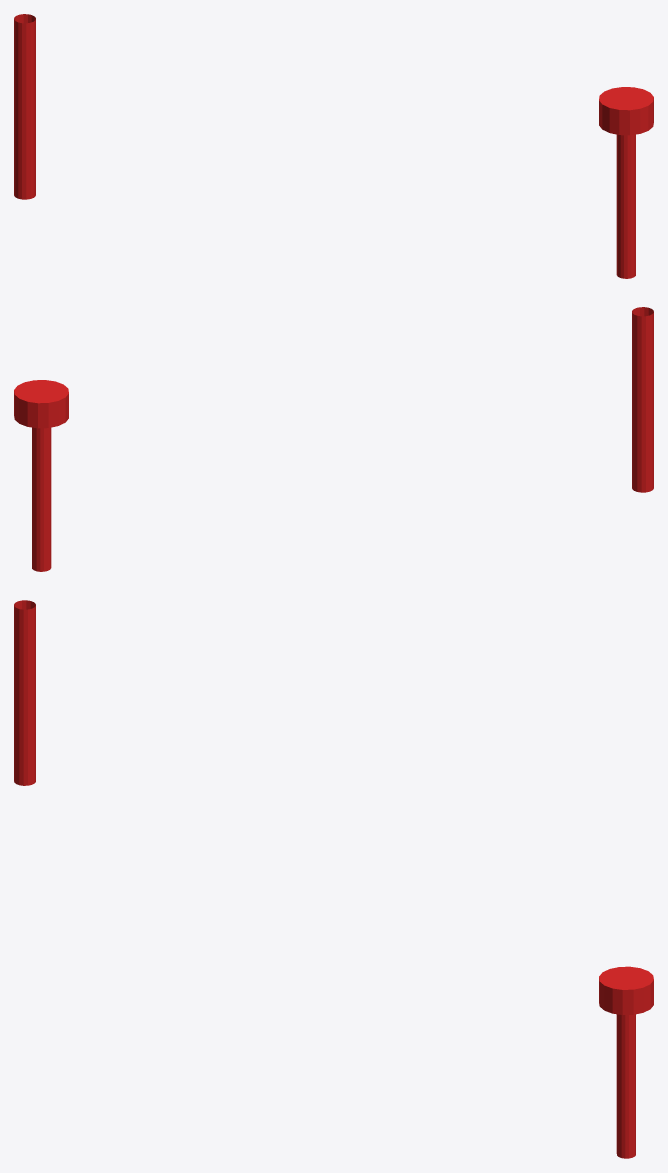
Rendered from 21_telemetry_antennas.glb.
3 renders of one model, top to bottom at view 1: azimuth 30°, elevation 25°; view 2: azimuth 150°, elevation 25°; view 3: azimuth 330°, elevation 25°, orthographic.
Visible parts, largest first — view 1: 21_telemetry_antennas; view 2: 21_telemetry_antennas; view 3: 21_telemetry_antennas.
Boxes of the visible parts, x1=… form: 21_telemetry_antennas: x1=14, y1=14, x2=653, y2=278; 21_telemetry_antennas: x1=14, y1=307, x2=653, y2=571; 21_telemetry_antennas: x1=14, y1=600, x2=653, y2=1158.
Size of the model in its own units: 52.8 by 32 by 4.
